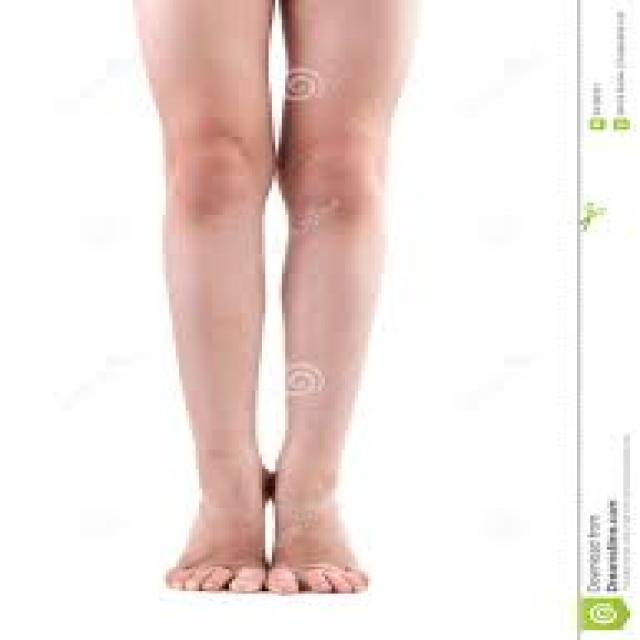Normal: (113, 46, 473, 440)
